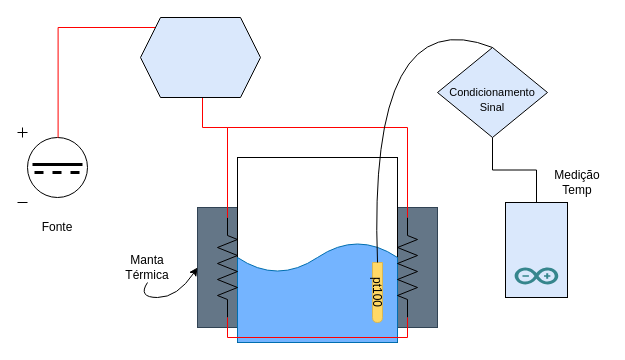
Image size: 625x360. Some labels were removed from this diagram. The shapes that lost their labels are listed below. From the top down, each one's box as (x1, y1, x2, y2) in pixels, then its label:
(140, 16, 260, 98): Acionamento Eletrônico
(504, 202, 568, 298): Arduino
